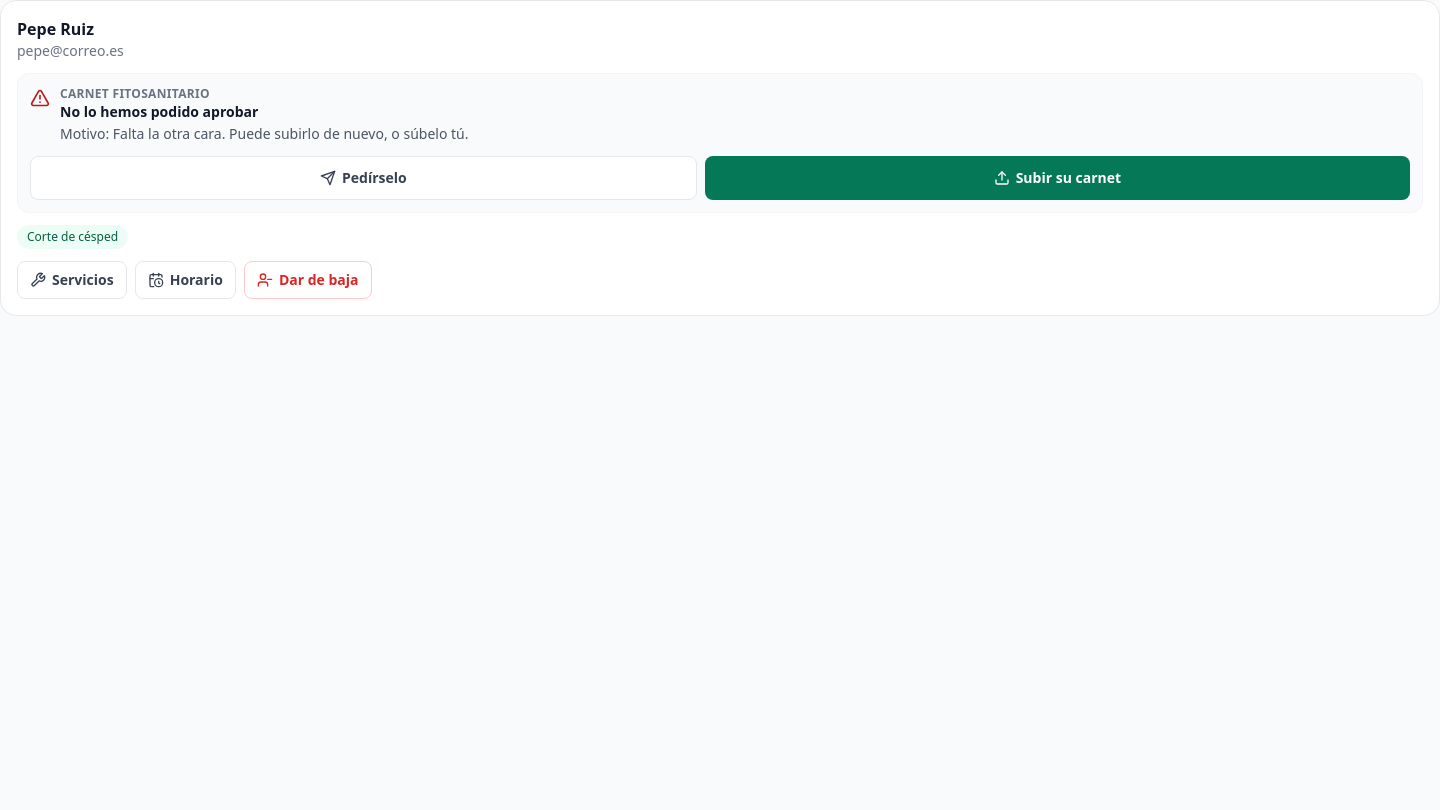
Test case: TeamMemberCard · carnet fitosanitario › rechazado: enseña el motivo, y «Subir su carnet» abre la hoja para enviarlo en su nombre
The image size is (1440, 810).
Expected: the text "Motivo: Falta la otra cara. Puede subirlo de nuevo, o súbelo tú." is shown, 60,124 -> 468,144
Click the button "Subir su carnet". click: point(1057, 178)
box: 705,156 -> 1410,200
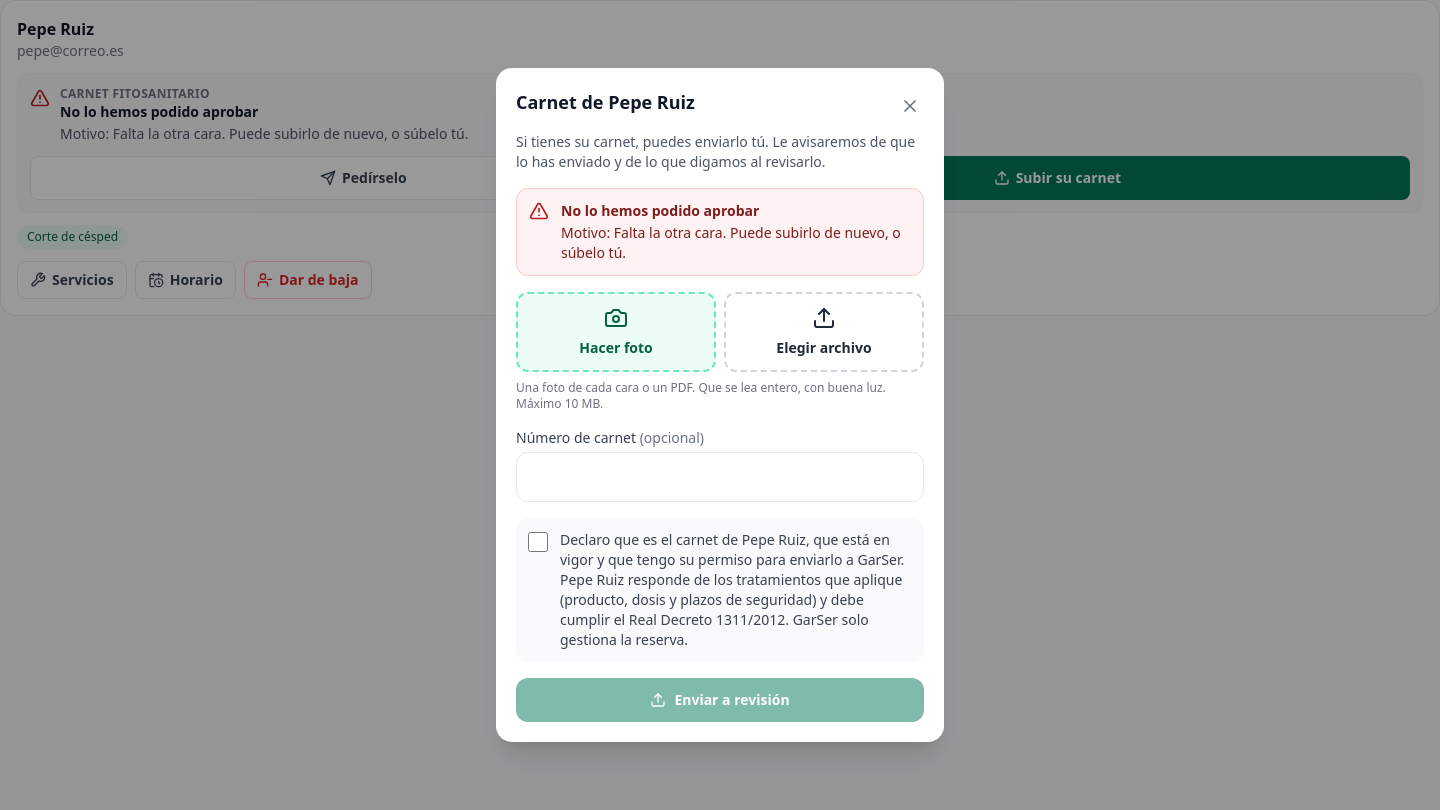
Expected: the text "Declaro que es el carnet de Pepe Ruiz" is shown, 560,530 -> 904,649
Click the 2nd button named "Cerrar". click: point(910, 106)
box: 888,84 -> 932,128
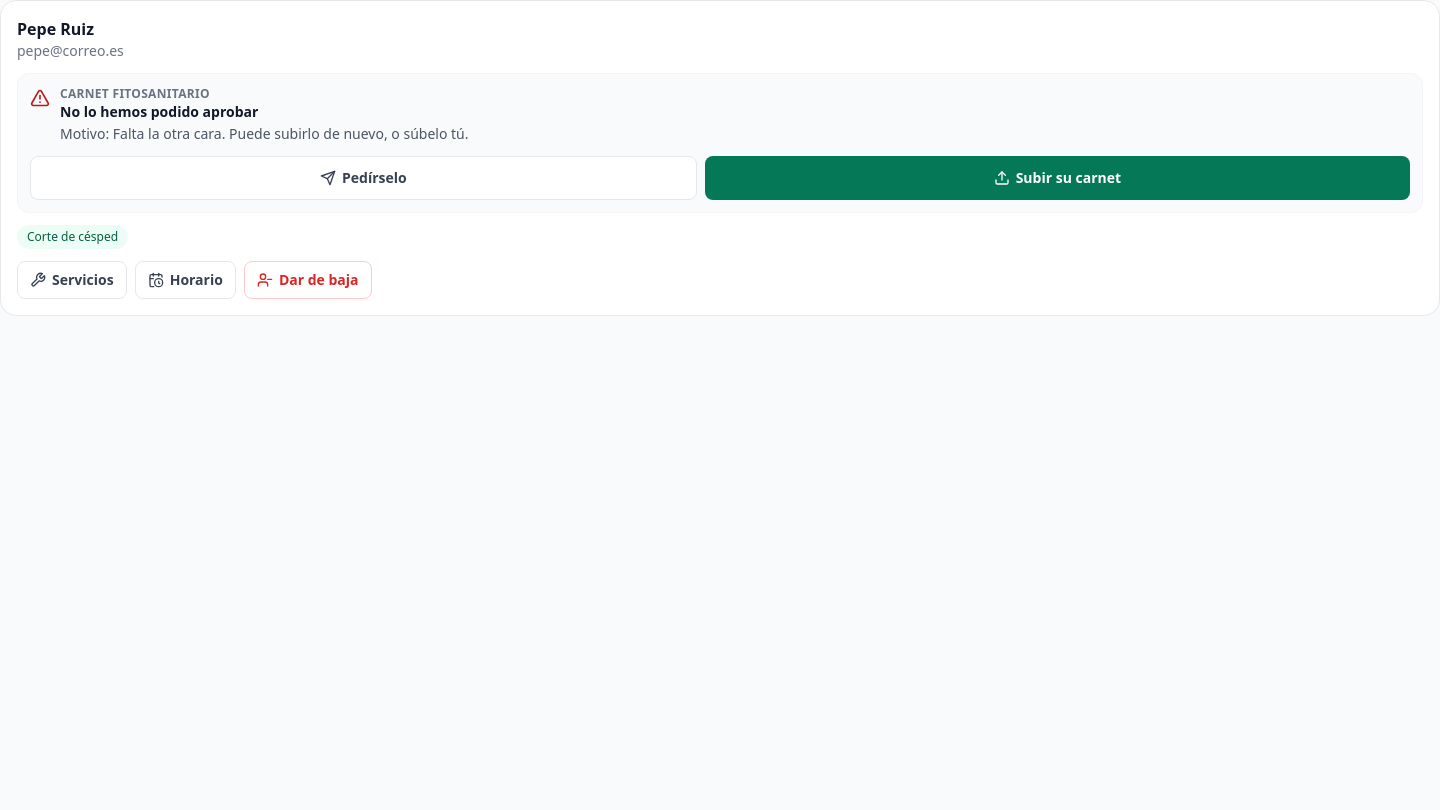
Expected: the dialog is gone
